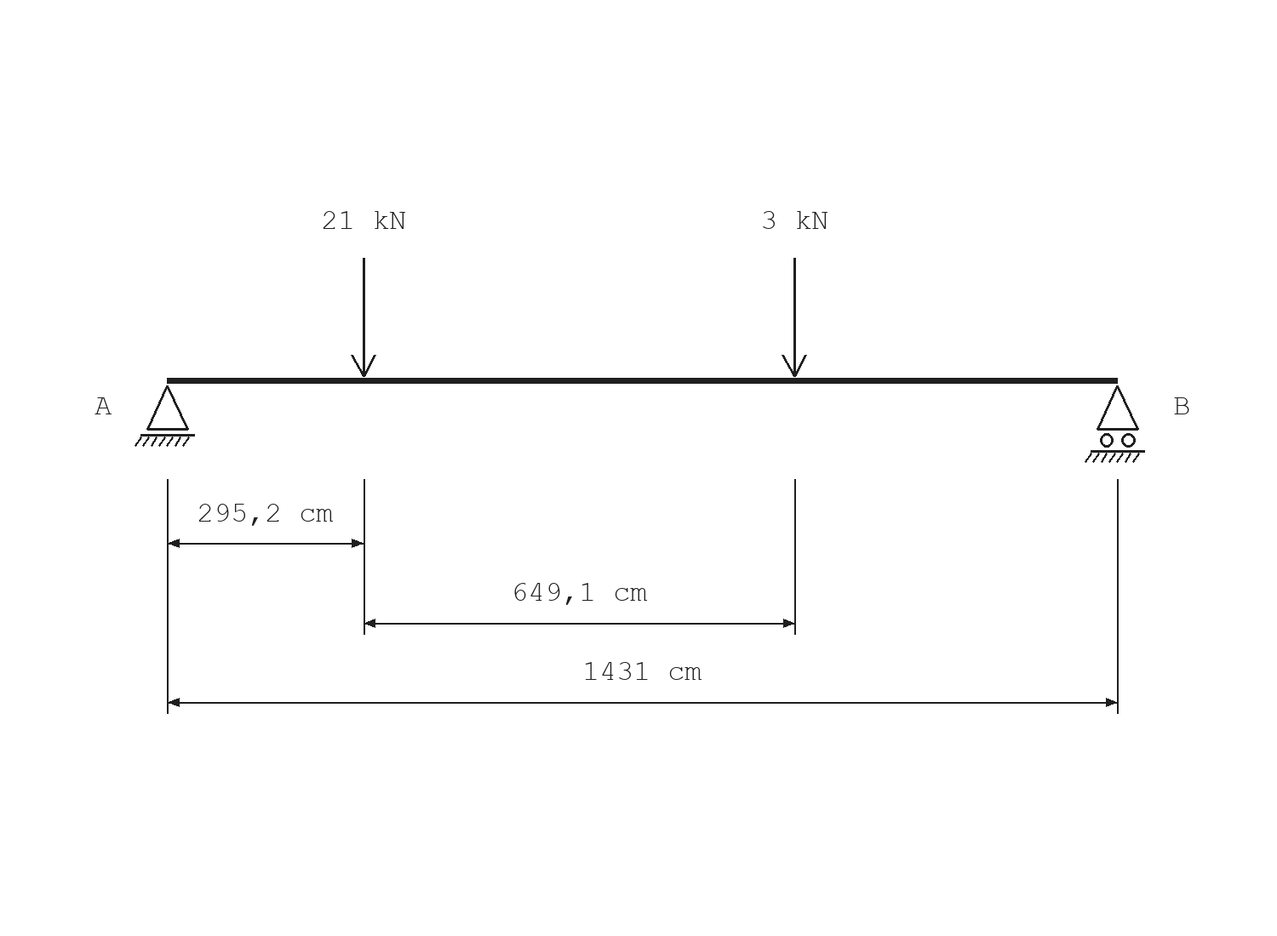pin_support: (135, 385, 195, 447)
point_load: (351, 258, 376, 377), (782, 258, 807, 377)
roller_support: (1085, 385, 1145, 463)
